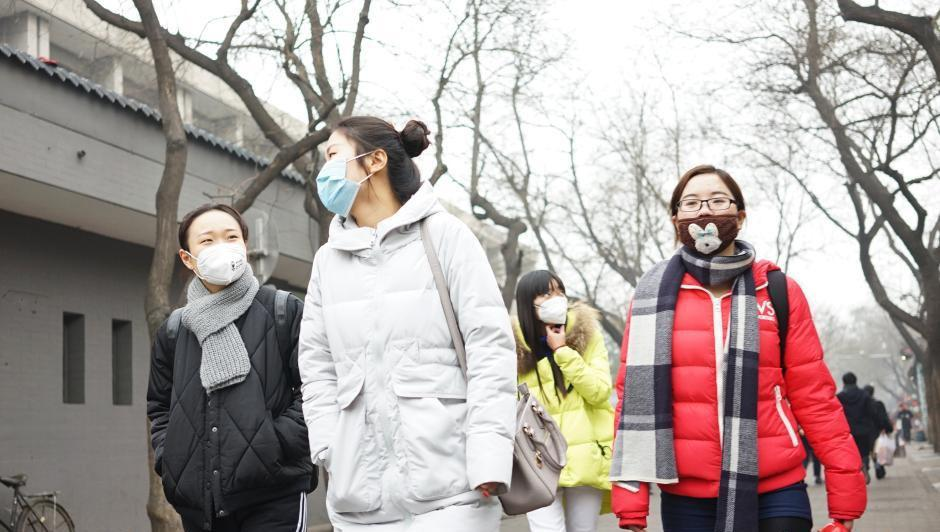OK: (316, 136, 375, 216), (189, 219, 252, 282), (531, 280, 572, 328)
WRONG: (675, 186, 744, 255)
